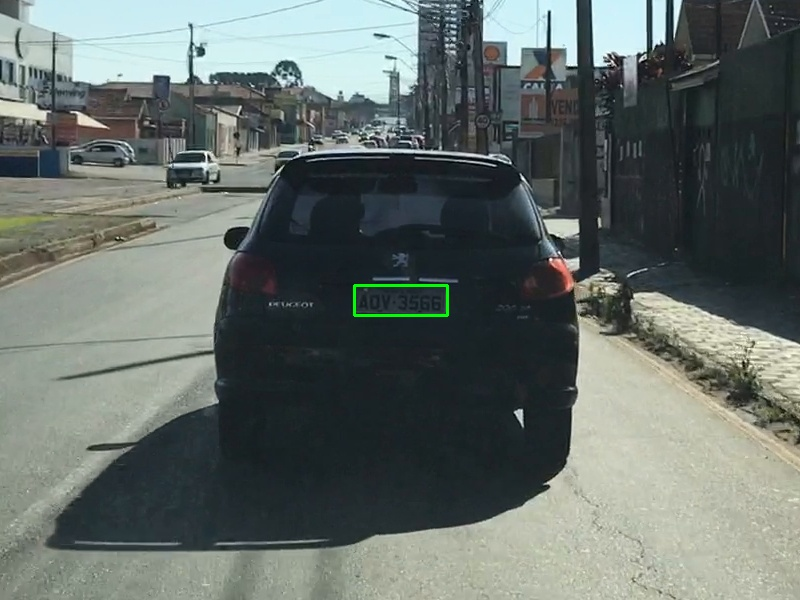placa: (354, 285, 447, 315)
